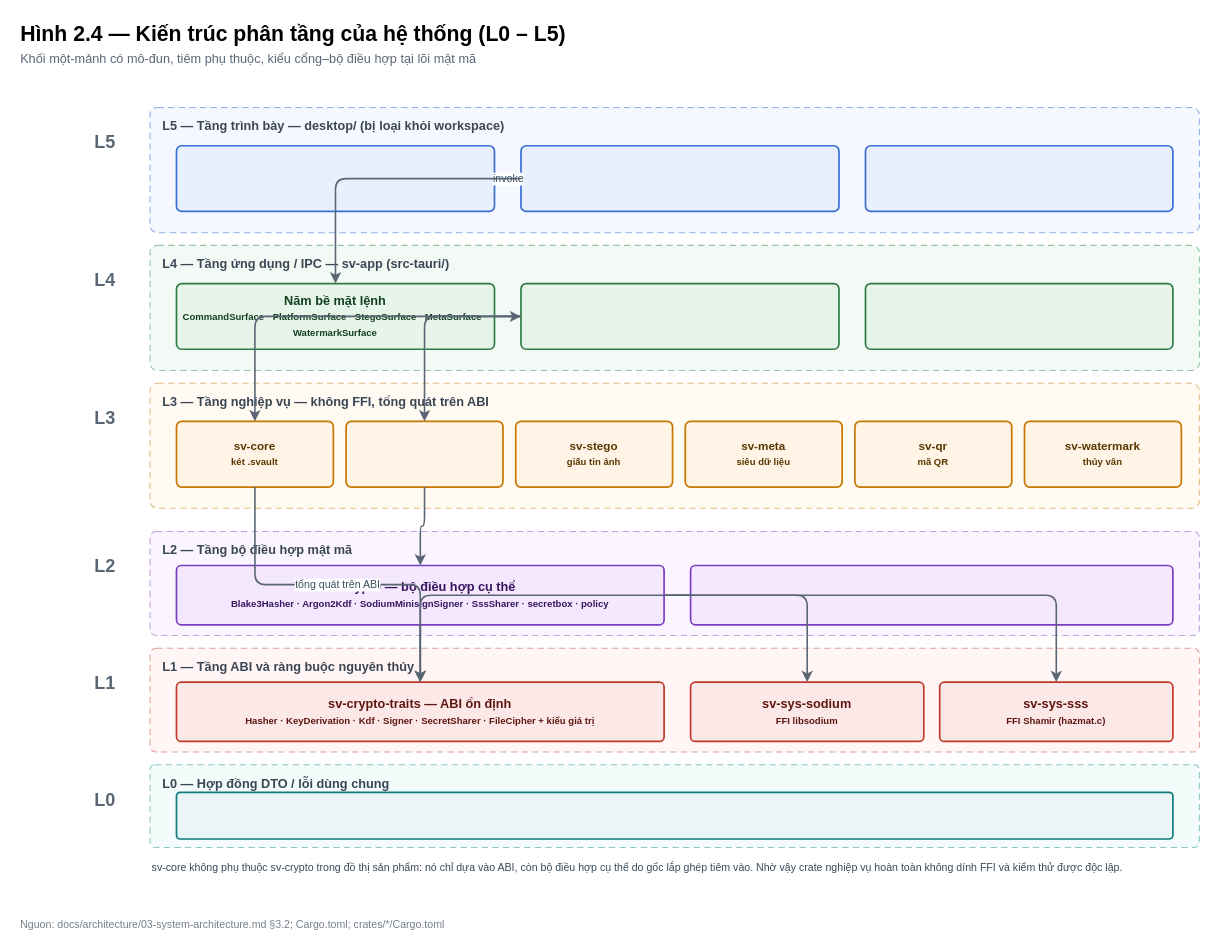
Image size: 1232x949. Some labels were removed from this diagram. Each missing label, with the centre of its shape:
"desktop/build.rs stage + ghim băm BLAKE3 nhị phân ngoài" belongs at point (1018, 178).
"desktop/src/lib.rs — vỏ Tauri 38 #[tauri::command] · resolve_binary · run()" belongs at point (679, 178).
"frontend/ — giao diện tĩnh index.html · main.js · i18n.js · styles.css" belongs at point (335, 178).
"Gốc lắp ghép AppVault · PlatformApp · StegoApp · MetaApp · WatermarkApp" belongs at point (679, 316).
"Kiểm soát biên IPC IpcPassphrase (tự xóa) · ánh xạ ApiError chống oracle" belongs at point (1018, 316).
"sv-age — bộ điều hợp FileCipher điều khiển tiến trình con age đã ghim băm" belongs at point (931, 594).
"sv-platform dịch vụ mức tệp" belongs at point (424, 453).
"sv-types — DTO IPC/UI + ApiError (12 mã SV-*) · tuyệt đối không chứa bí mật" belongs at point (674, 815).
